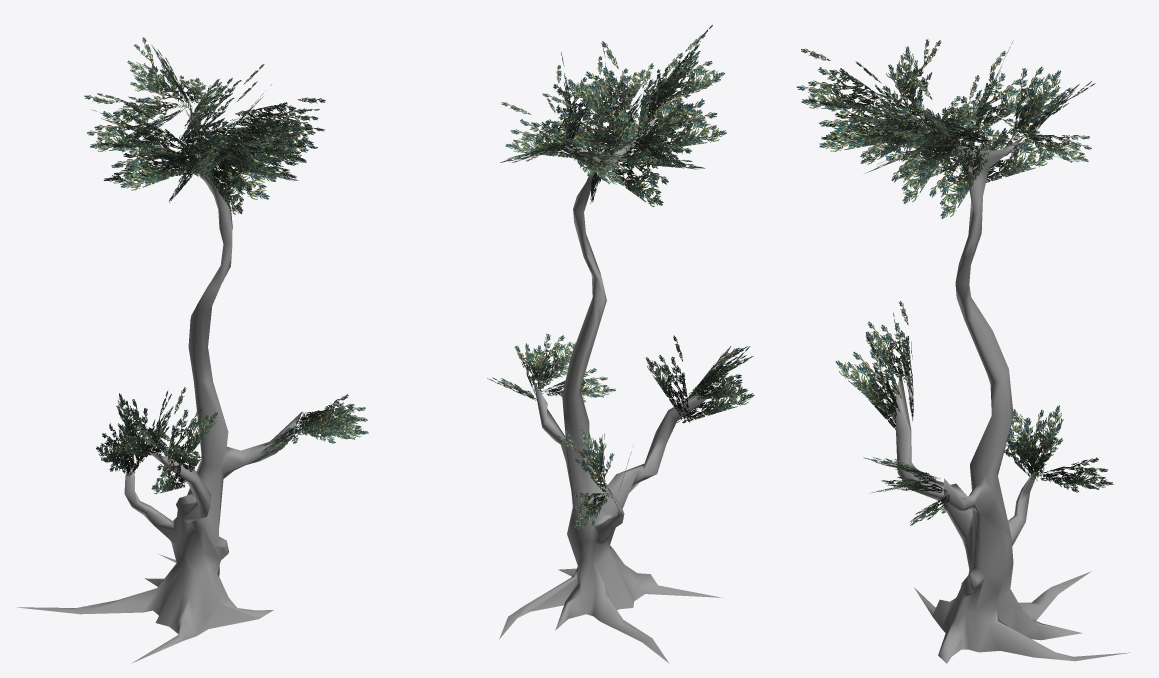
File: ektree_lod2.fbx
3 renders of one model, left to right at view 1: azimuth 30°, elevation 25°; view 2: azimuth 150°, elevation 25°; view 3: azimuth 270°, elevation 25°, orthographic. The views are drawn at different scales.
Visible parts, largest first — view 1: Default_Layer; view 2: Default_Layer; view 3: Default_Layer.
Boxes of the visible parts, bbox=[...] form: Default_Layer: bbox=[17, 37, 368, 662]; Default_Layer: bbox=[487, 25, 754, 663]; Default_Layer: bbox=[796, 39, 1129, 663].
Bounding box in the file's own units: 808 × 1469 × 785.
